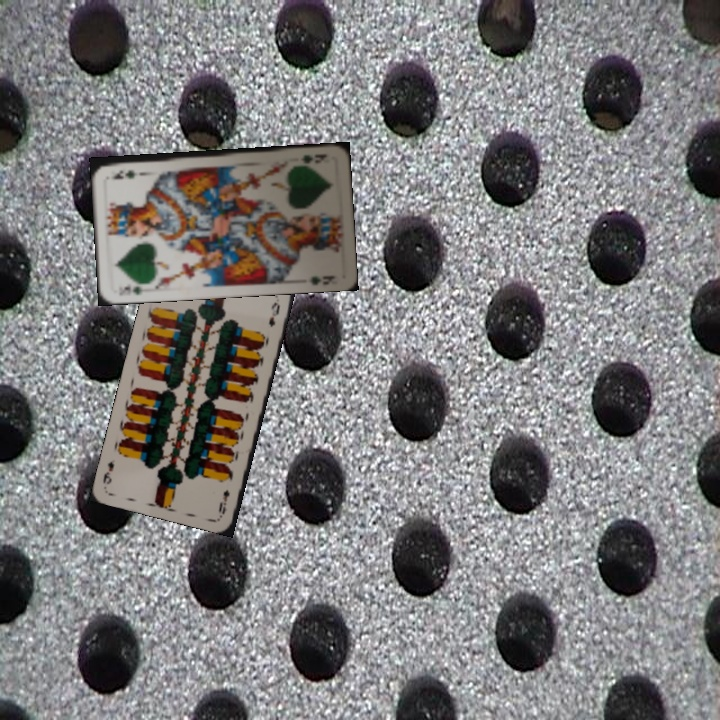E9: (215, 486, 232, 517)
GK: (115, 280, 146, 298), (296, 150, 330, 166)
